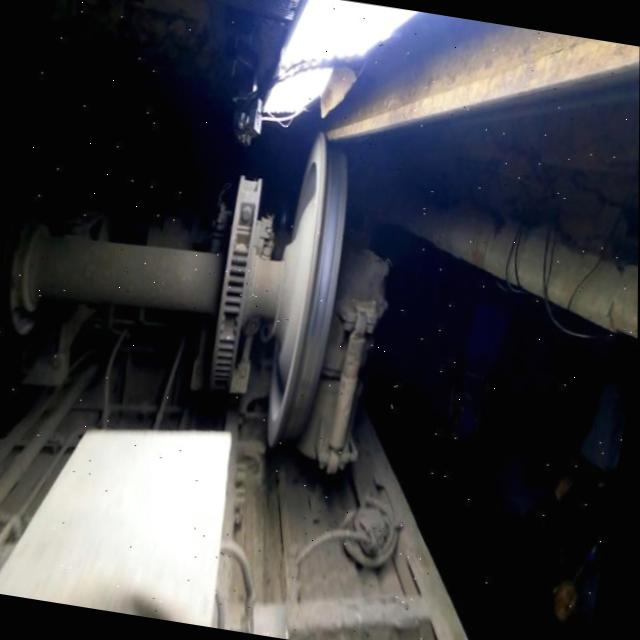Discoloration: (310, 274, 331, 338)
Shelling: (285, 338, 321, 439)
Wheel: (267, 131, 347, 447)
